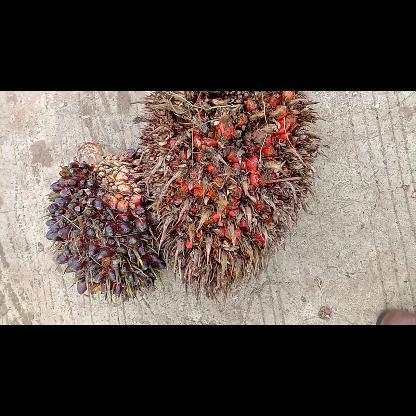TBS mentah: (42, 144, 166, 302)
Terlalu masak: (131, 91, 319, 301)
